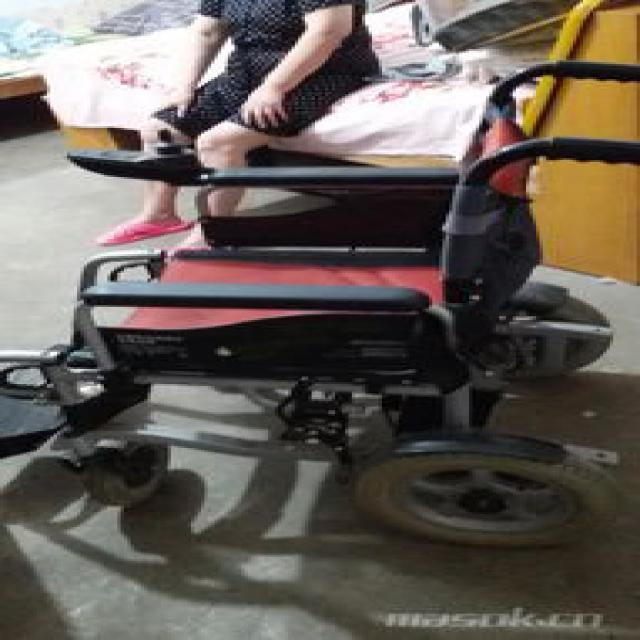person: (96, 0, 385, 247)
wheelchair: (10, 60, 637, 563)
